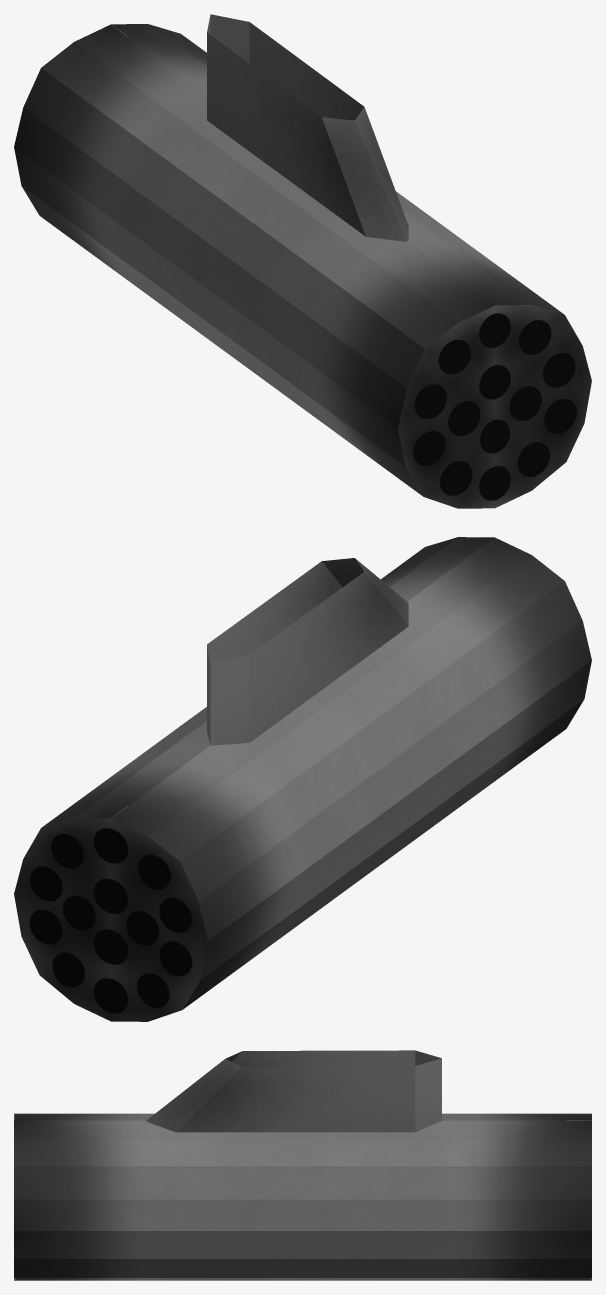
The model's file is rocketpod.fbx.
The picture shows the model from 3 angles, top to bottom: view 1: azimuth 30°, elevation 25°; view 2: azimuth 150°, elevation 25°; view 3: azimuth 270°, elevation 25°; orthographic projection. The views are drawn at different scales.
Parts seen in each view (by area): view 1: Cube; view 2: Cube; view 3: Cube.
Boxes of the visible parts, x1,y1,x2,y2 form: Cube: [14, 14, 591, 508]; Cube: [14, 537, 591, 1021]; Cube: [14, 1050, 591, 1280].
Size of the model in its own units: 191 by 268 by 654.
1 material, 1 textured.
